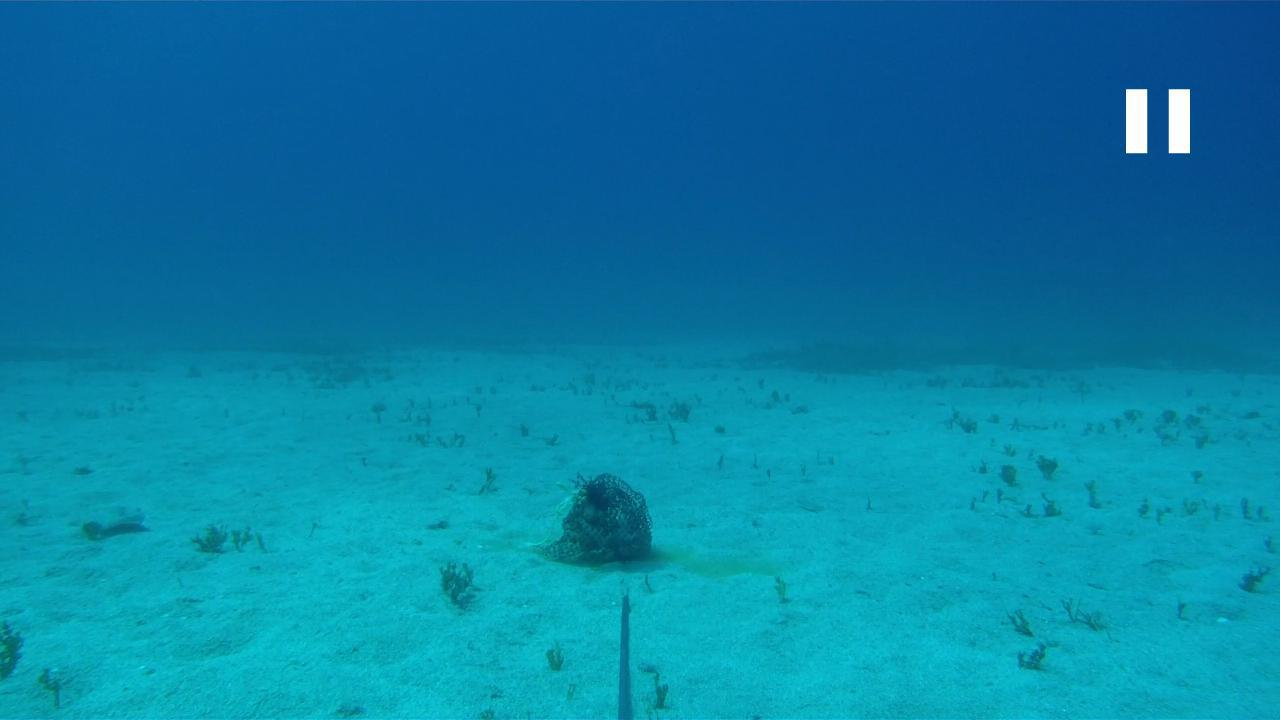bothus: (68, 502, 151, 529)
